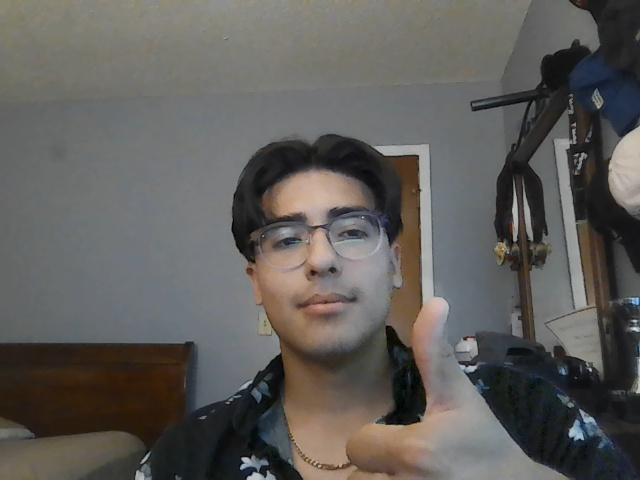ThumbsUp: (346, 296, 571, 480)
person: (231, 134, 403, 356)
